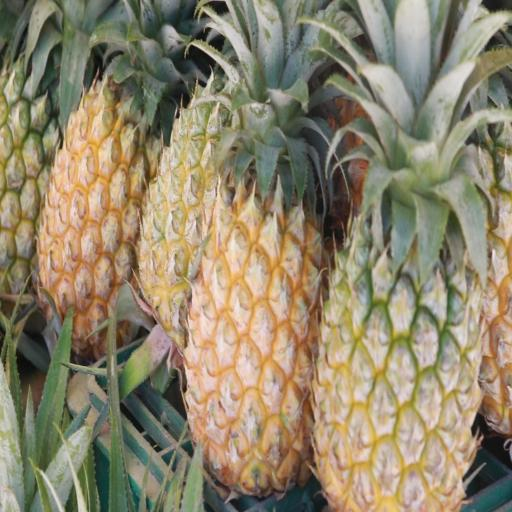------------------------------: (307, 57, 481, 512)
Pineapple - v8 v1: (172, 121, 323, 499), (126, 0, 253, 345), (32, 26, 163, 360)
